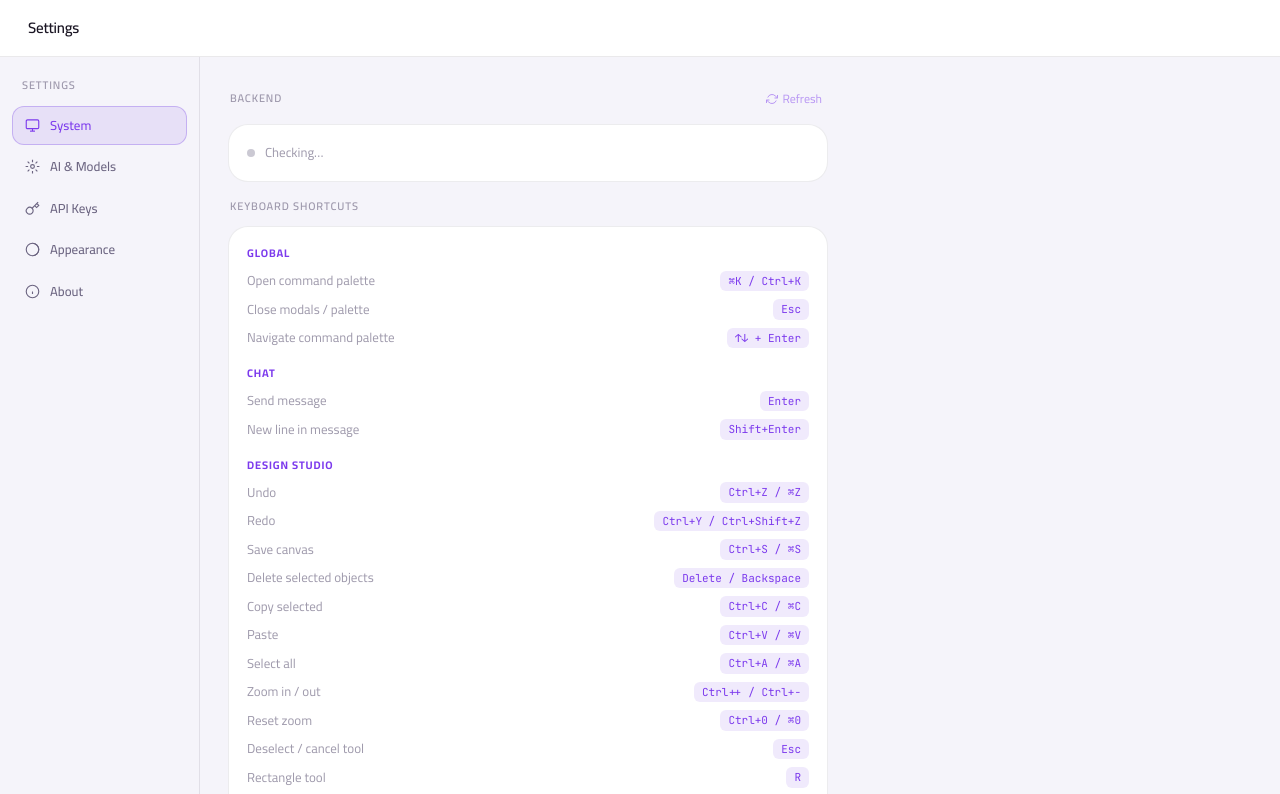
Test: ApiKeysTab — load existing keys › displays existing key names without raw key values
Click the button "API Keys". click: (61, 208)
box: [25,196,98,220]
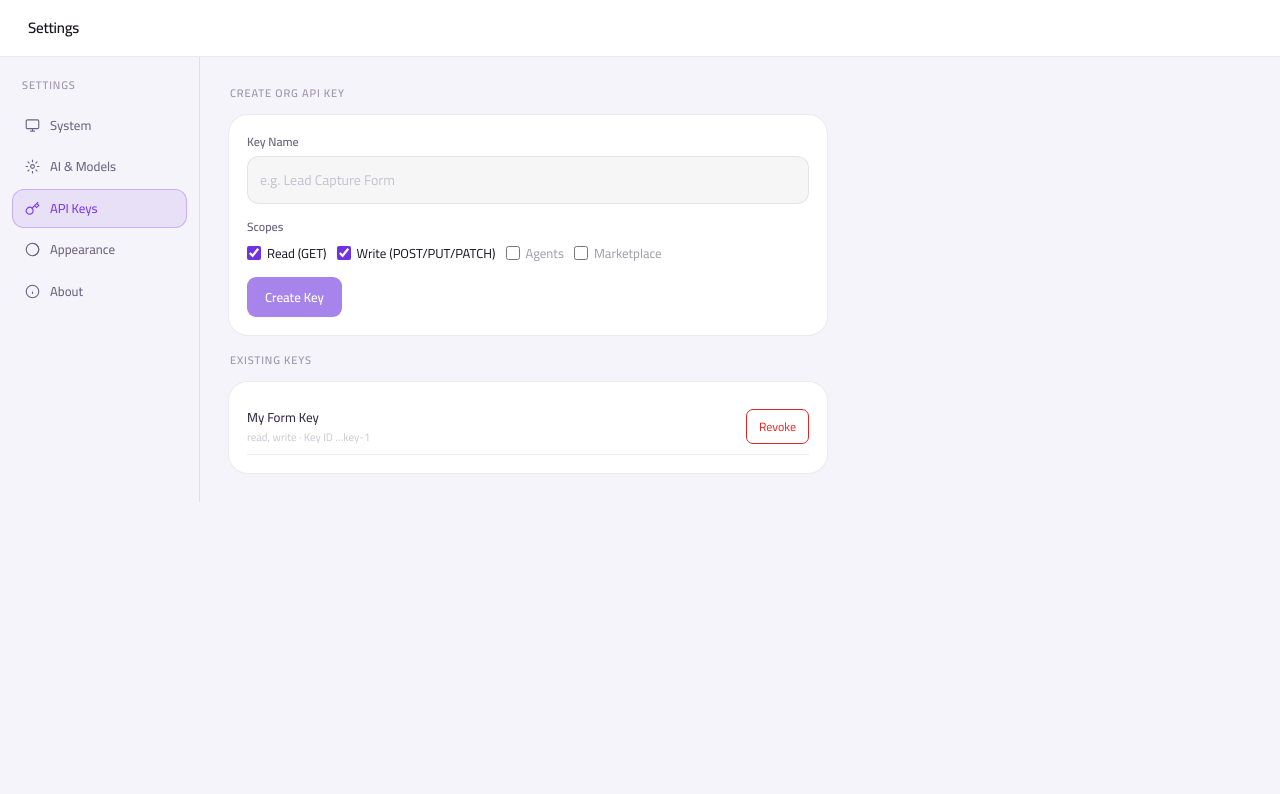
Result: the text "My Form Key" is shown at [247,404,319,428]
